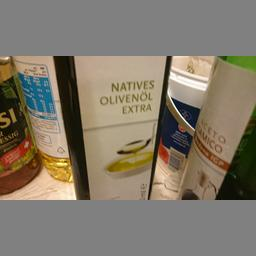oil: (52, 56, 170, 198)
